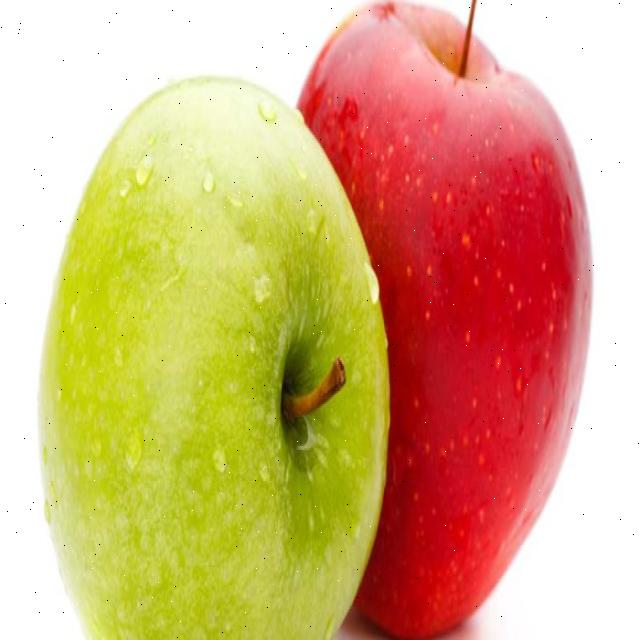Apel: (38, 71, 392, 638), (296, 0, 594, 638)
